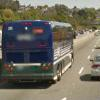Bus: (3, 13, 76, 85)
